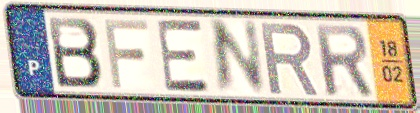B: (44, 14, 105, 89)
E: (154, 17, 214, 94)
F: (101, 16, 151, 91)
N: (208, 17, 269, 97)
R: (257, 20, 321, 98), (311, 22, 376, 98)
